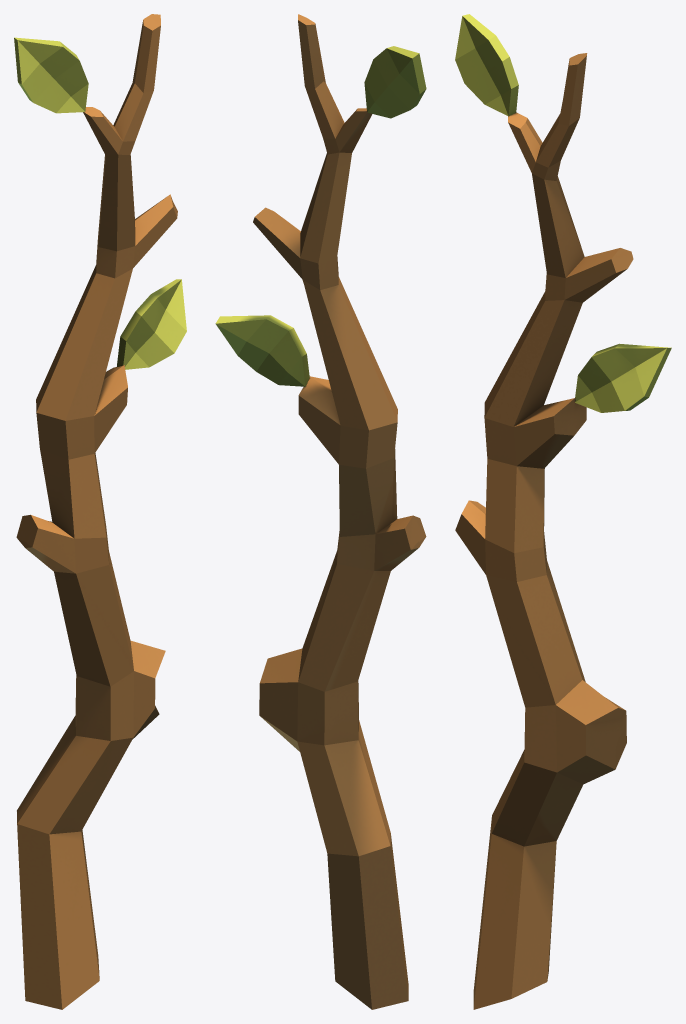
Rendered from PUSHILIN_Tree_branch.obj.
3 views of the same model, side by side, from view 1: azimuth 30°, elevation 25°; view 2: azimuth 150°, elevation 25°; view 3: azimuth 330°, elevation 25° (orthographic). The views are drawn at different scales.
Visible parts, largest first — view 1: Tree_branch; view 2: Tree_branch; view 3: Tree_branch.
Boxes of the visible parts, bbox=[...] form: Tree_branch: bbox=[14, 14, 186, 1009]; Tree_branch: bbox=[215, 14, 426, 1009]; Tree_branch: bbox=[455, 14, 671, 1009].
Bounding box in the file's own units: 0.5237 × 2.61 × 0.2453.
Materials: 1 (1 with a texture image).
